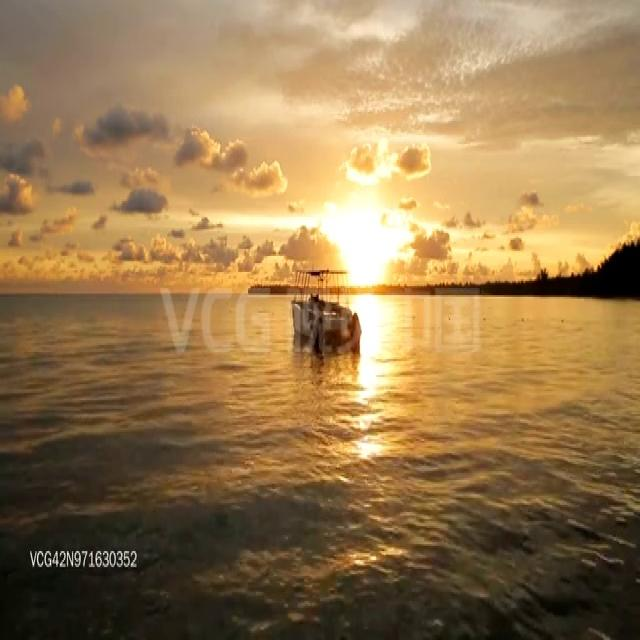houseboat: (292, 264, 360, 356)
